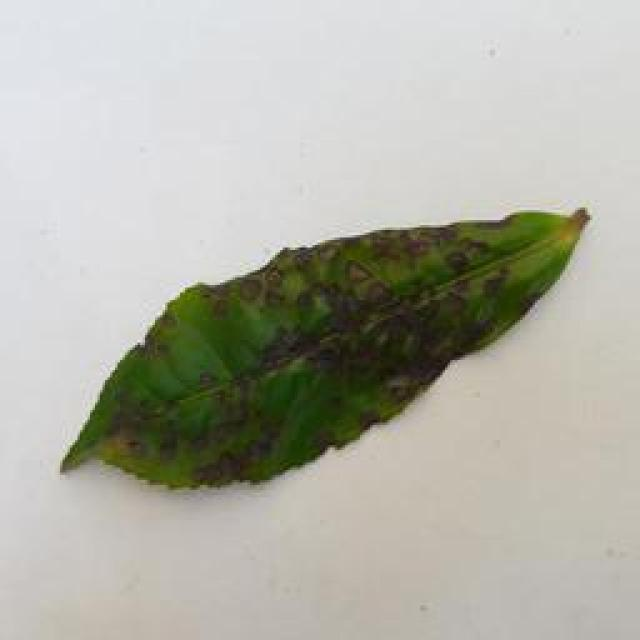Helopeltis: (49, 189, 610, 495)
